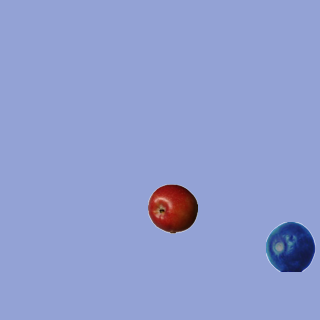Apple Braeburn: (147, 183, 197, 233)
Huckleberry: (265, 221, 315, 271)
